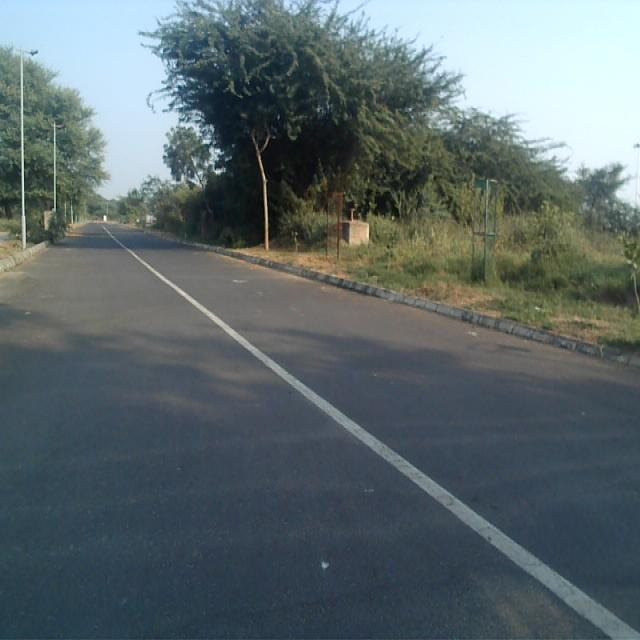lane: (0, 224, 613, 640)
